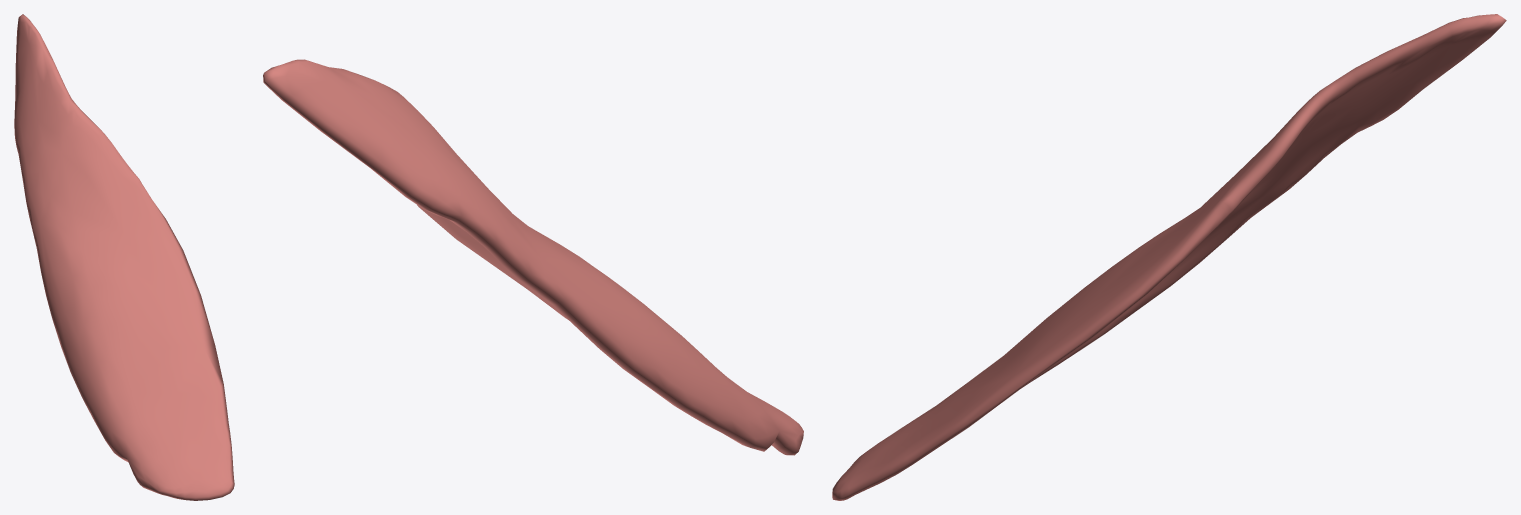
3 views of the same model, side by side, from view 1: azimuth 30°, elevation 25°; view 2: azimuth 150°, elevation 25°; view 3: azimuth 270°, elevation 25° (orthographic). The views are drawn at different scales.
Parts seen in each view (by area): view 1: ZA_0eb0f365d90a50f4; view 2: ZA_0eb0f365d90a50f4; view 3: ZA_0eb0f365d90a50f4.
Part boxes in pixels (bbox=[...]): ZA_0eb0f365d90a50f4: bbox=[14, 14, 234, 500]; ZA_0eb0f365d90a50f4: bbox=[263, 59, 803, 455]; ZA_0eb0f365d90a50f4: bbox=[832, 14, 1506, 500].
Size of the model in its own units: 0.0068 by 0.0166 by 0.0204.
